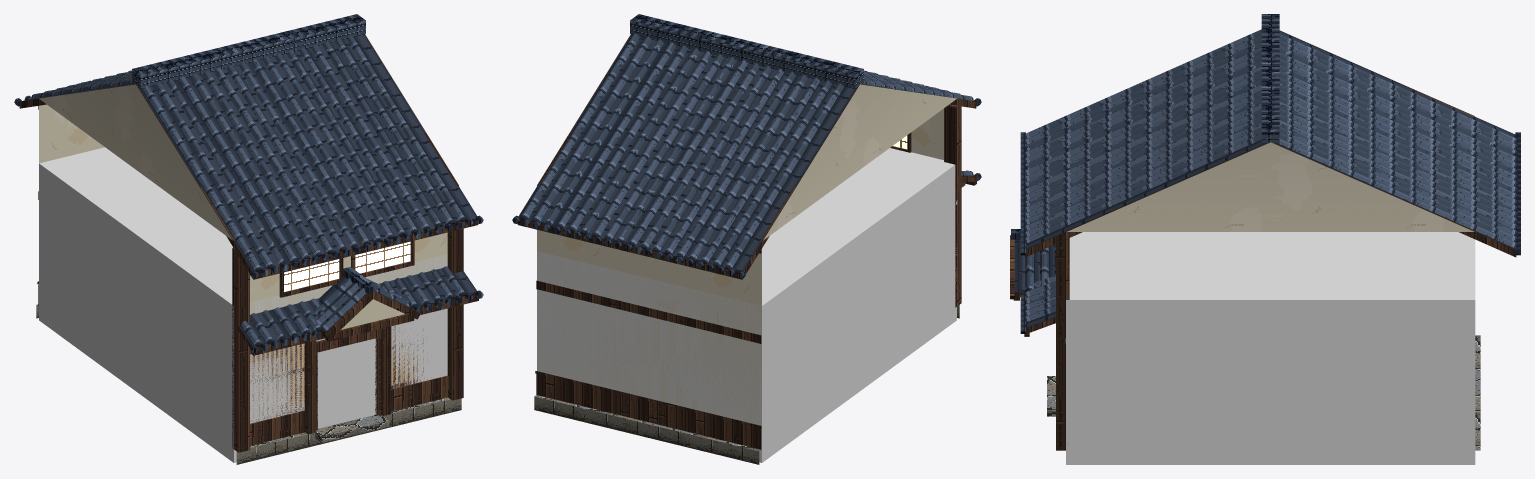
The model's file is JP_Row_House_A_M.glb.
The picture shows the model from 3 angles, left to right: view 1: azimuth 30°, elevation 25°; view 2: azimuth 150°, elevation 25°; view 3: azimuth 270°, elevation 25°; orthographic projection. The views are drawn at different scales.
Parts seen in each view (by area): view 1: JP_Row_House_A_M, COL_JP_Row_House_A_M; view 2: JP_Row_House_A_M, COL_JP_Row_House_A_M; view 3: COL_JP_Row_House_A_M, JP_Row_House_A_M.
Boxes of the visible parts, box(x1,y1,x2,y2) form: JP_Row_House_A_M: box(14, 14, 483, 464); COL_JP_Row_House_A_M: box(39, 147, 447, 462); JP_Row_House_A_M: box(512, 14, 981, 464); COL_JP_Row_House_A_M: box(537, 148, 956, 462); COL_JP_Row_House_A_M: box(1066, 232, 1475, 464); JP_Row_House_A_M: box(1010, 14, 1520, 450).
Bounding box in the file's own units: 6.17 × 8.14 × 11.23.
12 materials, 12 textured.
